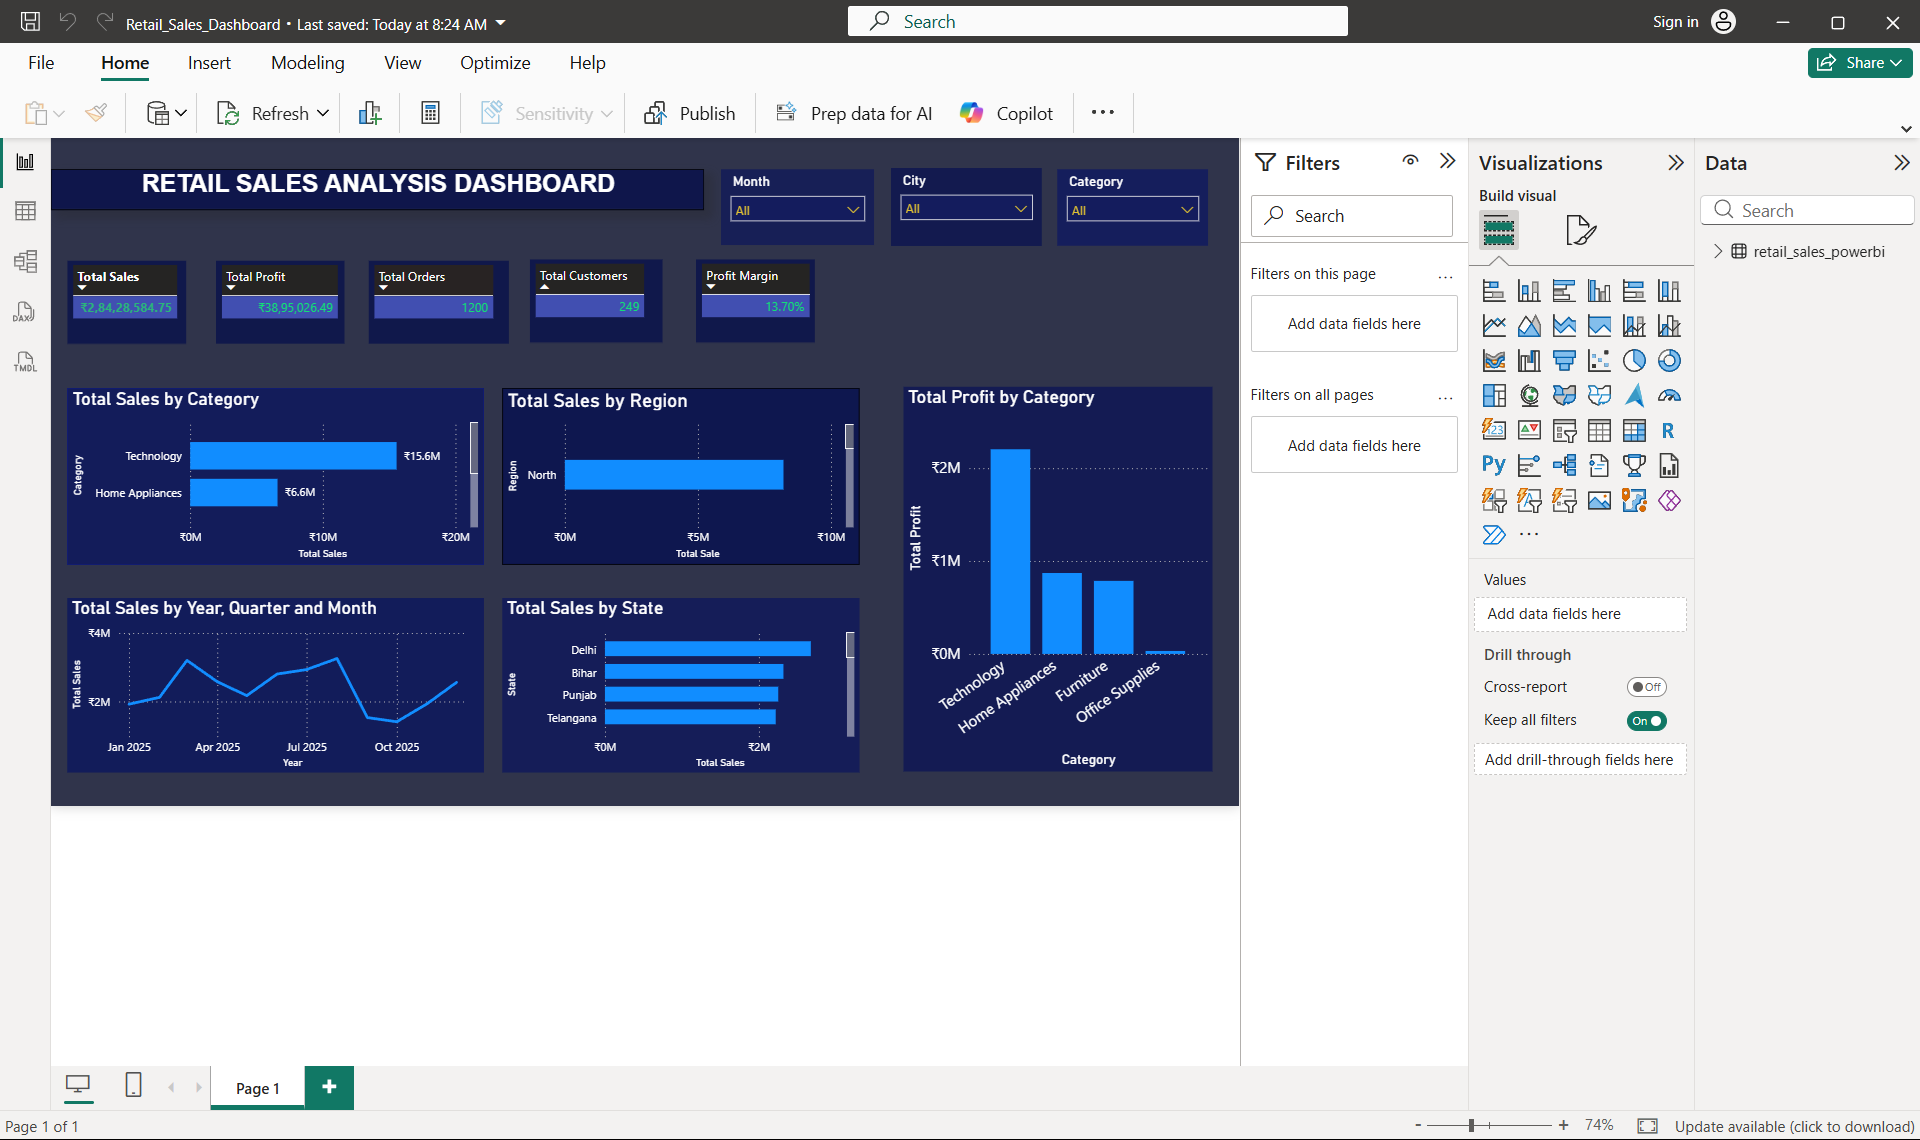

What the dashboard file says about the page in this screenshot:
{"tool":"powerbi","page":{"name":"Page 1","canvas":[1280,720],"ordinal":0},"visuals":[{"type":"tableEx","fields":{"Values":["retail_sales_powerbi.Total Profit"]},"box":[177.9,132.6,138.4,89.5],"z":0},{"type":"tableEx","fields":{"Values":["retail_sales_powerbi.Total Orders"]},"box":[341.9,131.4,151.2,89.5],"z":1000},{"type":"tableEx","fields":{"Values":["retail_sales_powerbi.Total Customers"]},"box":[516.3,130.2,143,89.5],"z":2000},{"type":"tableEx","fields":{"Values":["retail_sales_powerbi.Profit Margin"]},"box":[694.2,130.2,127.9,89.5],"z":3000},{"type":"tableEx","fields":{"Values":["retail_sales_powerbi.Total Sales"]},"box":[17.4,132.6,127.9,89.5],"z":4000},{"type":"clusteredBarChart","fields":{"Category":["retail_sales_powerbi.Category"],"Y":["retail_sales_powerbi.Total Sales"]},"box":[17.5,268.9,448.5,190.3],"z":5000},{"type":"clusteredBarChart","fields":{"Category":["retail_sales_powerbi.Region"],"Y":["retail_sales_powerbi.Total Sales"]},"box":[486.4,268.9,384.5,190.3],"z":6000},{"type":"lineChart","fields":{"Category":["retail_sales_powerbi.Order_Date.Variation.Date Hierarchy.Year","retail_sales_powerbi.Order_Date.Variation.Date Hierarchy.Quarter","retail_sales_powerbi.Order_Date.Variation.Date Hierarchy.Month","retail_sales_powerbi.Order_Date.Variation.Date Hierarchy.Day"],"Y":["retail_sales_powerbi.Total Sales"]},"box":[17.5,495.1,448.5,188.3],"z":7000},{"type":"clusteredBarChart","fields":{"Category":["retail_sales_powerbi.State"],"Y":["retail_sales_powerbi.Total Sales"]},"box":[486.4,495.1,384.5,188.3],"z":8000},{"type":"clusteredColumnChart","fields":{"Category":["retail_sales_powerbi.Category"],"Y":["retail_sales_powerbi.Total Profit"]},"box":[917.9,268.4,332.6,414.7],"z":9000},{"type":"slicer","fields":{"Values":["retail_sales_powerbi.Order_Date.Variation.Date Hierarchy.Month"]},"box":[720.9,33.7,165.1,81.4],"z":10000},{"type":"slicer","fields":{"Values":["retail_sales_powerbi.City"]},"box":[904.7,32.6,162.8,83.7],"z":11000},{"type":"slicer","fields":{"Values":["retail_sales_powerbi.Category"]},"box":[1083.7,33.7,162.8,82.6],"z":12000},{"type":"textbox","title":"RETAIL SALES ANALYSIS DASHBOARD","box":[0,33.7,703.5,44.2],"z":13000}]}

Visuals, with their boxes on the page's 1280x720 design canvas (x1, y1, x2, y2). These are canvas units, not pixel positions in the 1920x1140 screenshot, which may show the page scaled, cropped or inside an application window:
tableEx - retail_sales_powerbi.Total Profit: bbox=(178, 133, 316, 222)
tableEx - retail_sales_powerbi.Total Orders: bbox=(342, 131, 493, 221)
tableEx - retail_sales_powerbi.Total Customers: bbox=(516, 130, 659, 220)
tableEx - retail_sales_powerbi.Profit Margin: bbox=(694, 130, 822, 220)
tableEx - retail_sales_powerbi.Total Sales: bbox=(17, 133, 145, 222)
clusteredBarChart - retail_sales_powerbi.Category x retail_sales_powerbi.Total Sales: bbox=(18, 269, 466, 459)
clusteredBarChart - retail_sales_powerbi.Region x retail_sales_powerbi.Total Sales: bbox=(486, 269, 871, 459)
lineChart - retail_sales_powerbi.Order_Date.Variation.Date Hierarchy.Year x retail_sales_powerbi.Order_Date.Variation.Date Hierarchy.Quarter: bbox=(18, 495, 466, 683)
clusteredBarChart - retail_sales_powerbi.State x retail_sales_powerbi.Total Sales: bbox=(486, 495, 871, 683)
clusteredColumnChart - retail_sales_powerbi.Category x retail_sales_powerbi.Total Profit: bbox=(918, 268, 1250, 683)
slicer - retail_sales_powerbi.Order_Date.Variation.Date Hierarchy.Month: bbox=(721, 34, 886, 115)
slicer - retail_sales_powerbi.City: bbox=(905, 33, 1068, 116)
slicer - retail_sales_powerbi.Category: bbox=(1084, 34, 1246, 116)
"RETAIL SALES ANALYSIS DASHBOARD" textbox: bbox=(0, 34, 704, 78)
